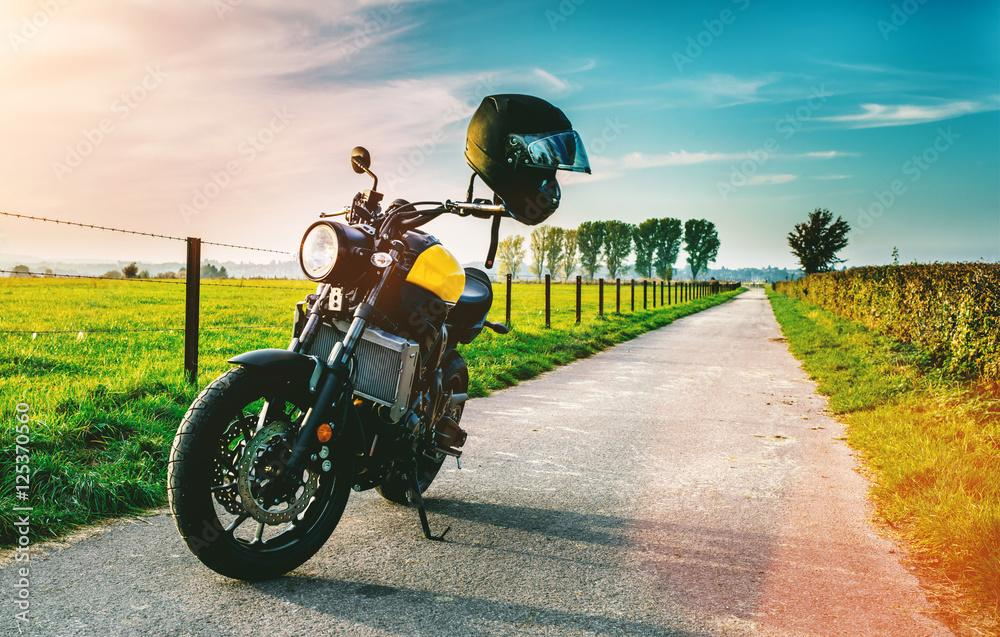helmet: (463, 92, 593, 270)
